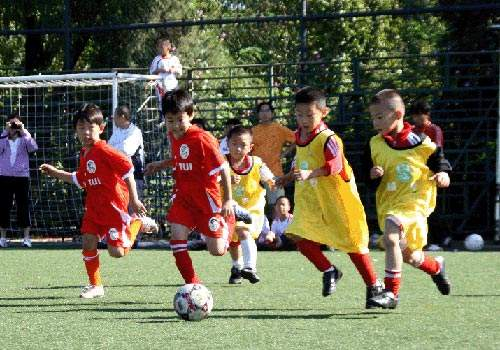football: (173, 282, 213, 322)
